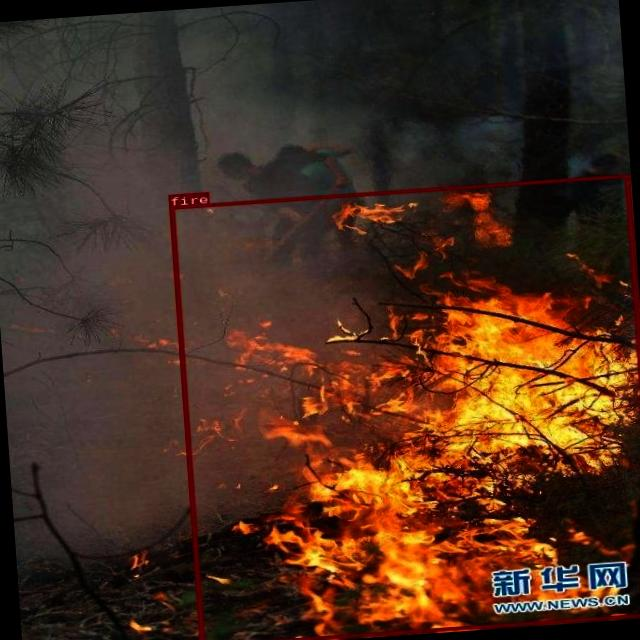fire: (168, 173, 640, 640)
